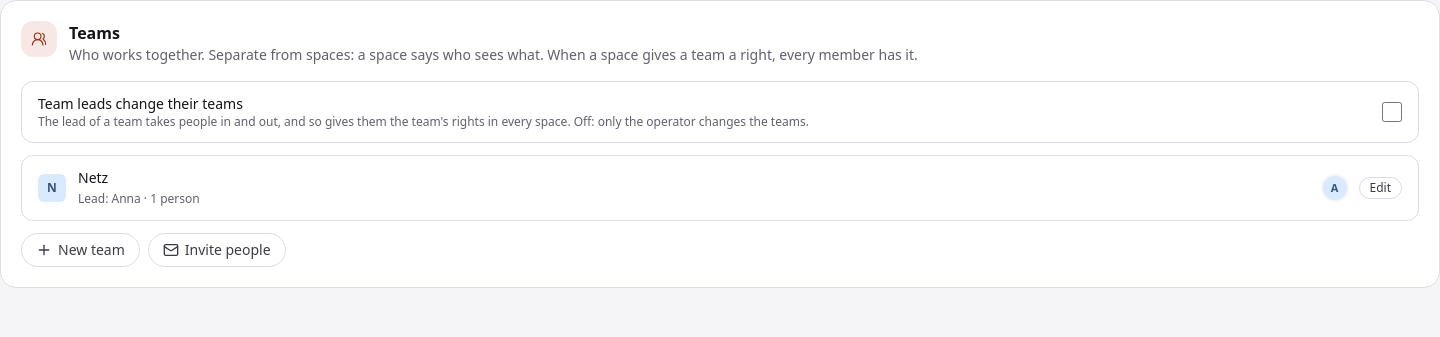
Test: team leads › puts the switch back when the server refuses it
Click the checkbox named "Team leads change their teams" at (1392, 112), box [1382,102,1402,122]
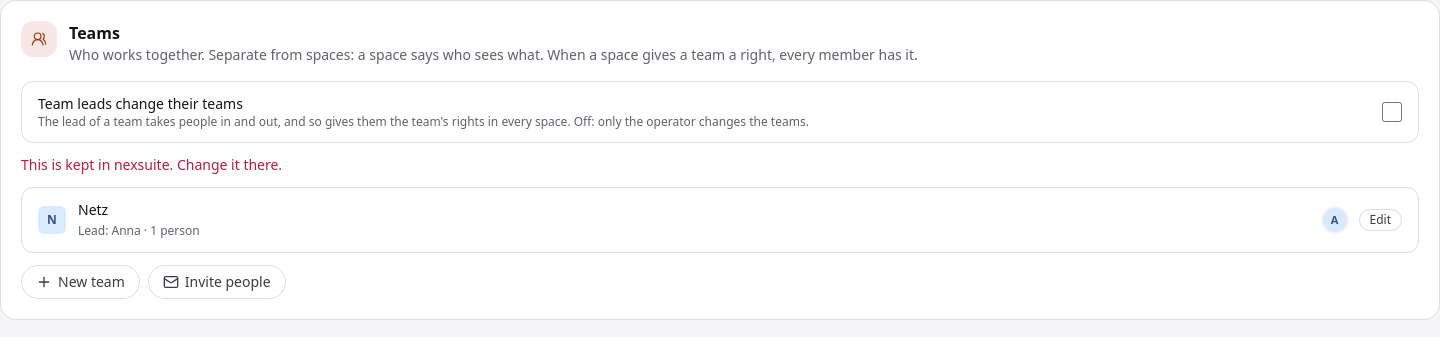
Result: the text "This is kept in nexsuite. Change it there." is shown at [21,155,282,174]
